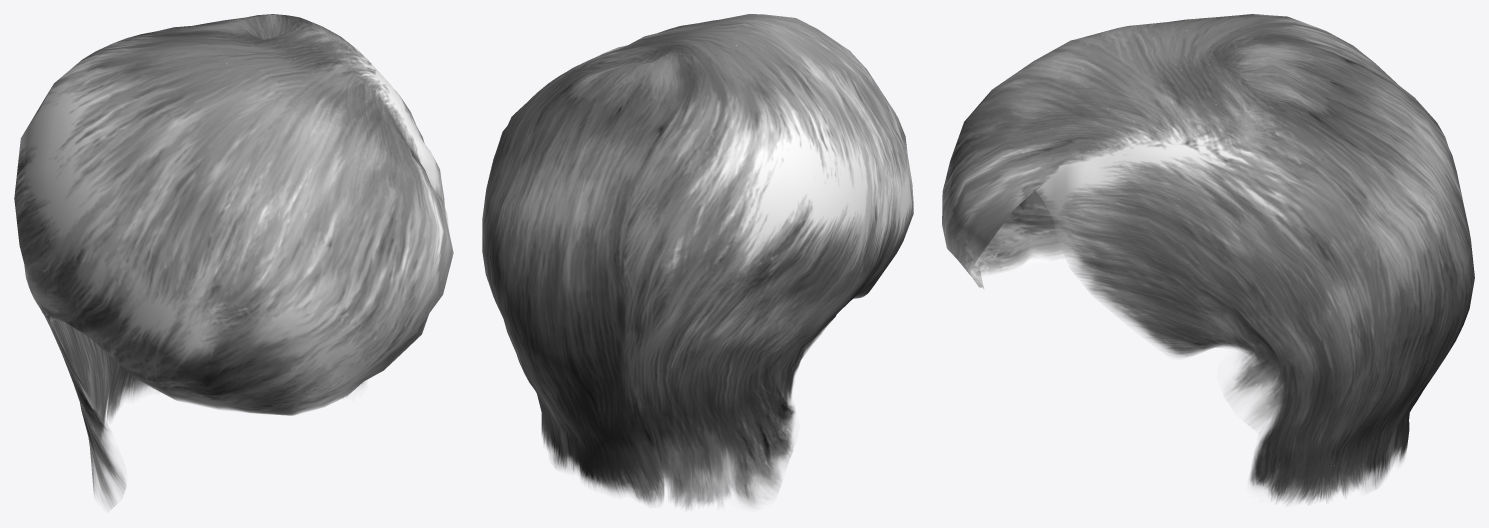
File: hair_short03.gltf
The picture shows the model from 3 angles, left to right: view 1: azimuth 30°, elevation 25°; view 2: azimuth 150°, elevation 25°; view 3: azimuth 270°, elevation 25°; orthographic projection. The views are drawn at different scales.
Parts seen in each view (by area): view 1: hair_short03; view 2: hair_short03; view 3: hair_short03.
Part boxes in pixels (left/top/right/bottom): hair_short03: left=14, top=14, right=453, bottom=509; hair_short03: left=482, top=14, right=913, bottom=508; hair_short03: left=942, top=14, right=1474, bottom=504.
Size of the model in its own units: 0.1757 by 0.2114 by 0.2285.
1 material, 1 textured.
